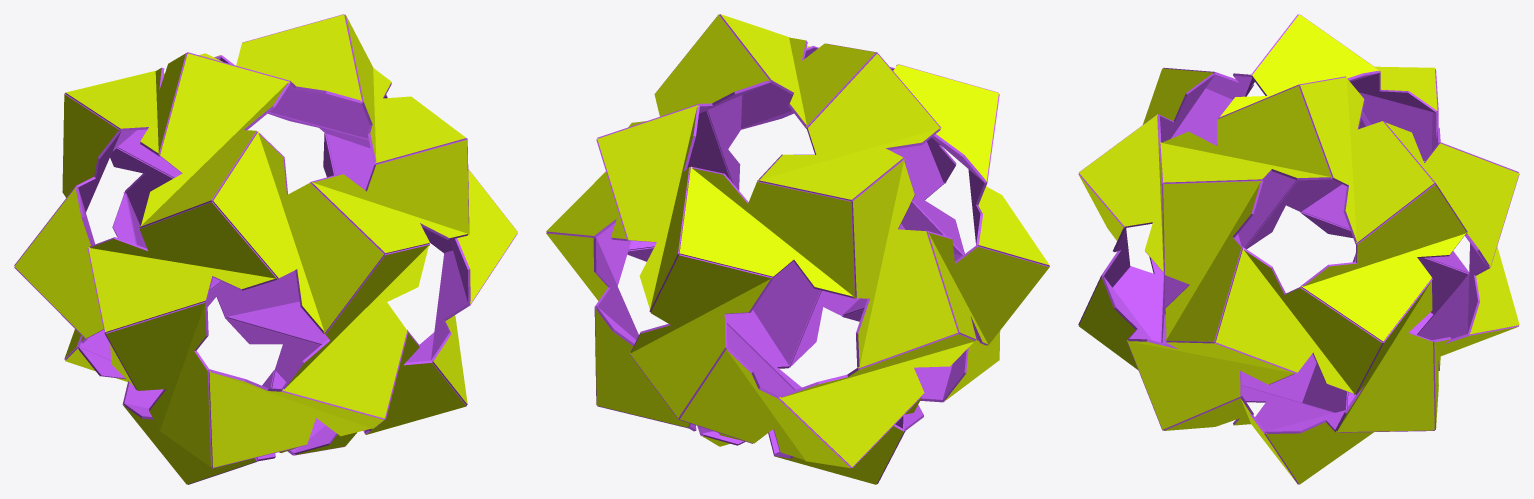
The model's file is Dodecahedron2.glb.
3 views of the same model, side by side, from view 1: azimuth 30°, elevation 25°; view 2: azimuth 150°, elevation 25°; view 3: azimuth 270°, elevation 25° (orthographic). The views are drawn at different scales.
Visible parts, largest first — view 1: root; view 2: root; view 3: root.
Part boxes in pixels (x1,y1,x2,y2): root: [14, 14, 517, 484]; root: [546, 14, 1049, 484]; root: [1078, 14, 1519, 484].
Size of the model in its own units: 2.63 by 2.63 by 2.63.
